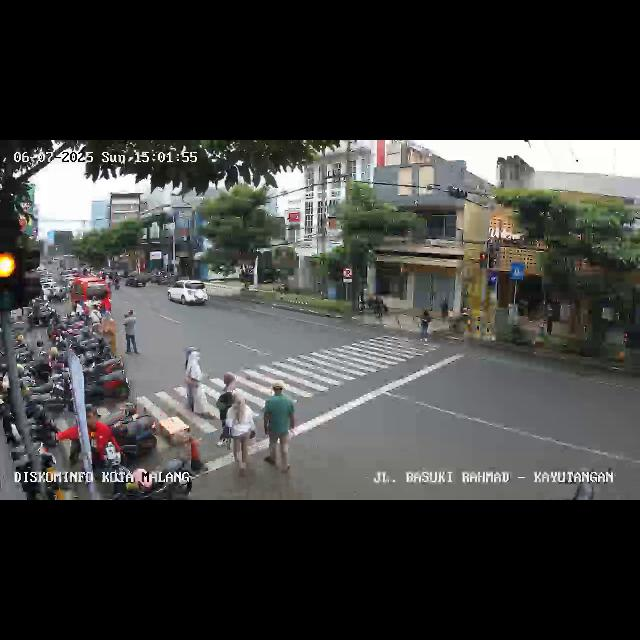car: (68, 278, 112, 314), (167, 279, 210, 309), (128, 274, 152, 290)
motorcycle: (418, 306, 432, 346)
person: (262, 382, 296, 472), (227, 390, 257, 472), (216, 371, 238, 447), (182, 346, 204, 414), (122, 308, 142, 358)
